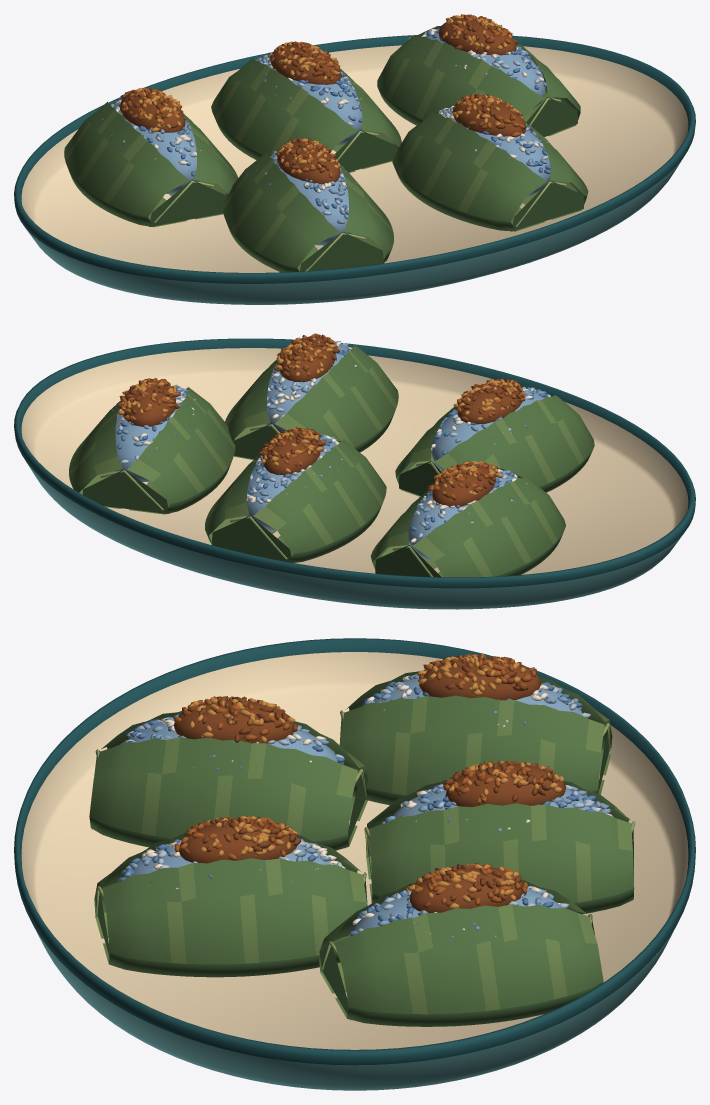
3 views of the same model, one above another, from view 1: azimuth 30°, elevation 25°; view 2: azimuth 150°, elevation 25°; view 3: azimuth 270°, elevation 25° (orthographic). The views are drawn at different scales.
Parts seen in each view (by area): view 1: Enamel tray, Banana leaf envelopes, Grated coconut, Blue pea rice; view 2: Enamel tray, Banana leaf envelopes, Grated coconut, Blue pea rice; view 3: Banana leaf envelopes, Enamel tray, Grated coconut, Blue pea rice.
Boxes of the visible parts, <box> form: Enamel tray: <box>14,35,695,304</box>; Banana leaf envelopes: <box>64,26,588,272</box>; Grated coconut: <box>120,14,526,184</box>; Blue pea rice: <box>101,27,550,245</box>; Enamel tray: <box>14,338,695,609</box>; Banana leaf envelopes: <box>69,345,594,577</box>; Grated coconut: <box>116,333,525,507</box>; Blue pea rice: <box>111,341,550,560</box>; Banana leaf envelopes: <box>89,669,635,1026</box>; Enamel tray: <box>14,638,695,1090</box>; Grated coconut: <box>173,653,565,912</box>; Blue pea rice: <box>118,674,613,941</box>.
Bounding box in the file's own units: 0.3527 × 0.0554 × 0.2445.
